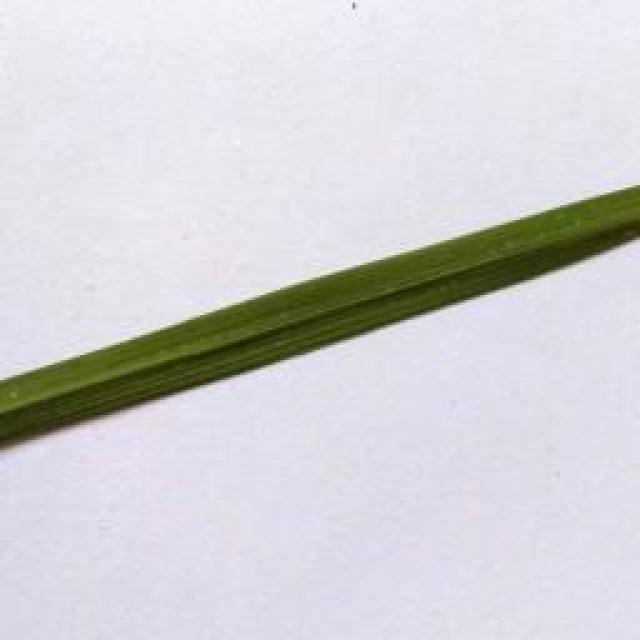Healthy-Plant: (453, 188, 640, 306), (139, 280, 305, 404), (306, 239, 454, 349), (0, 340, 135, 450)
